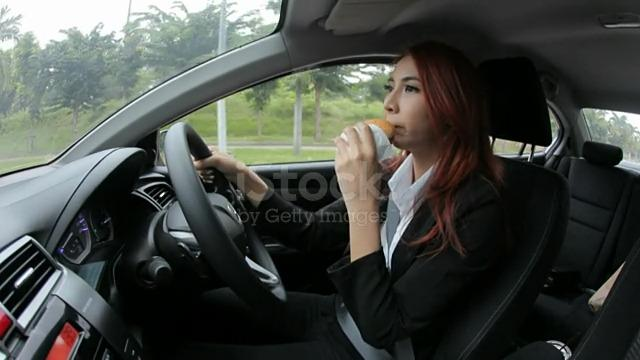Eating: (322, 33, 505, 188)
